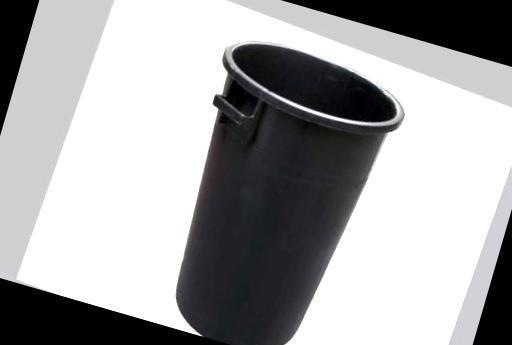Bote de Basura: (144, 26, 411, 345)
